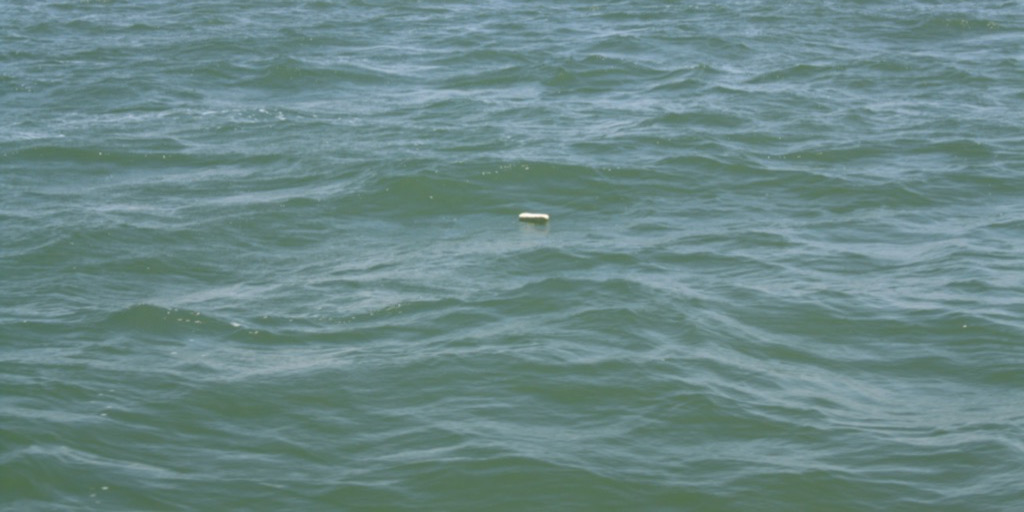plastic: (512, 206, 560, 228)
